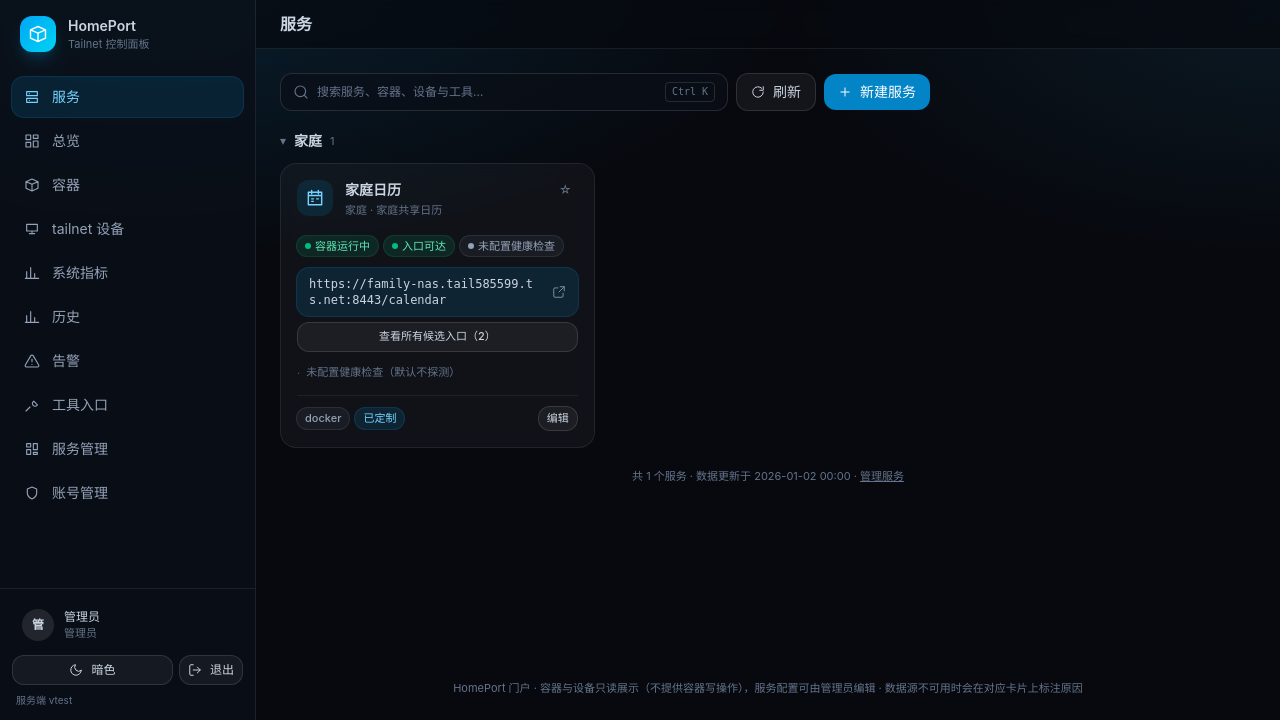
Test: 服务墙 · 权限与候选入口 › admin 能看到编辑/收藏入口；展开候选入口时不可达项被标注"仅本机/不可达"
Expected: the link "家庭日历" is shown, [345,180,401,200]
Expected: the button "编辑" is shown, [538,406,578,431]
What coordinates should you click on to do the following:
click the button "查看所有候选入口（2）"
I would click on:
 (437, 337)
Its box is [297,322,578,352].
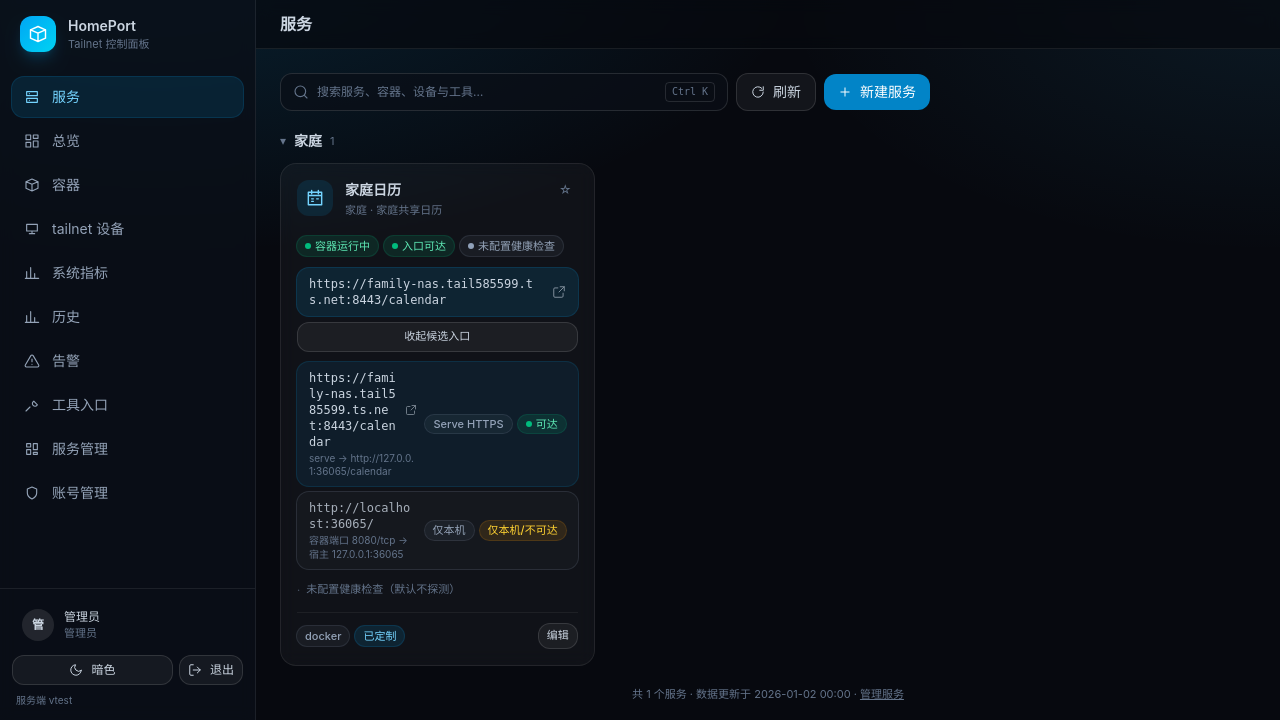
Expected: the list item that starts with "http://localhost:36065/" is shown, [297,492,578,569]
Expected: the list item that starts with "http://localhost:36065/" shows "仅本机/不可达", [488,523,558,537]
